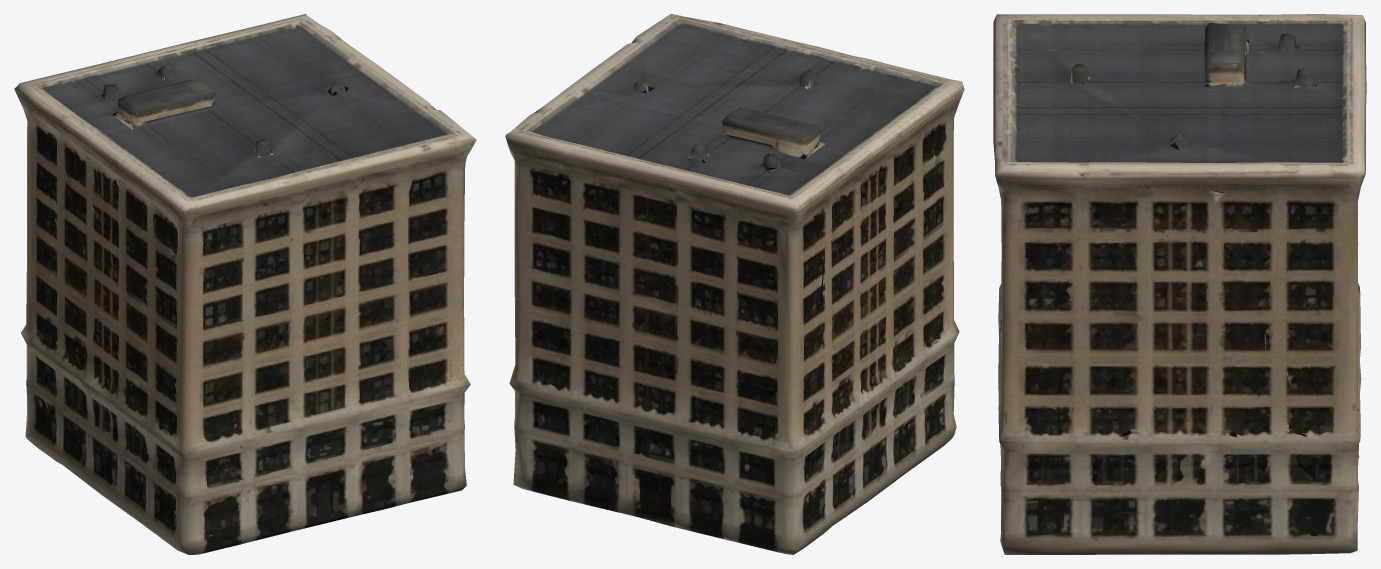
File: gen_low2_chicago_school.glb
The picture shows the model from 3 angles, left to right: view 1: azimuth 30°, elevation 25°; view 2: azimuth 150°, elevation 25°; view 3: azimuth 270°, elevation 25°; orthographic projection. The views are drawn at different scales.
Parts seen in each view (by area): view 1: gen_low2_chicago_school; view 2: gen_low2_chicago_school; view 3: gen_low2_chicago_school.
Part boxes in pixels (x1=…): gen_low2_chicago_school: x1=14, y1=14, x2=476, y2=554; gen_low2_chicago_school: x1=505, y1=14, x2=964, y2=554; gen_low2_chicago_school: x1=993, y1=14, x2=1366, y2=554.
Size of the model in its own units: 25 by 30 by 24.87.
1 material, 1 textured.
